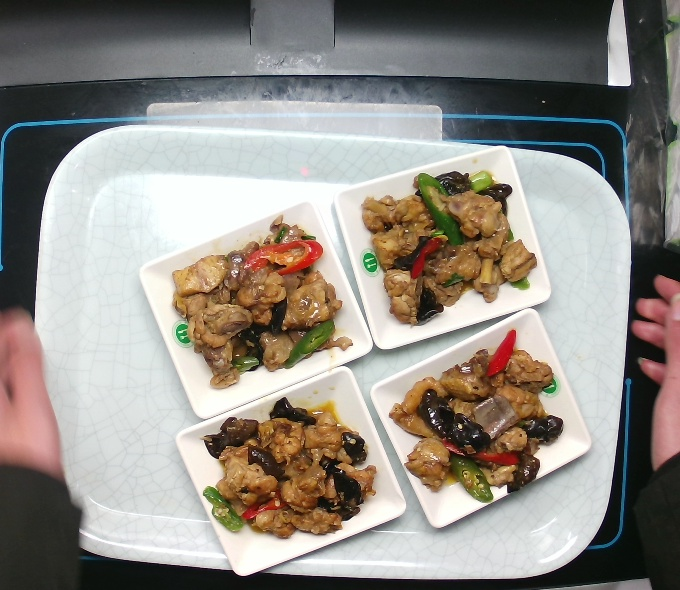wcq-LaZiJi: (168, 211, 355, 394), (390, 327, 565, 503), (354, 166, 539, 326), (200, 393, 379, 541)
